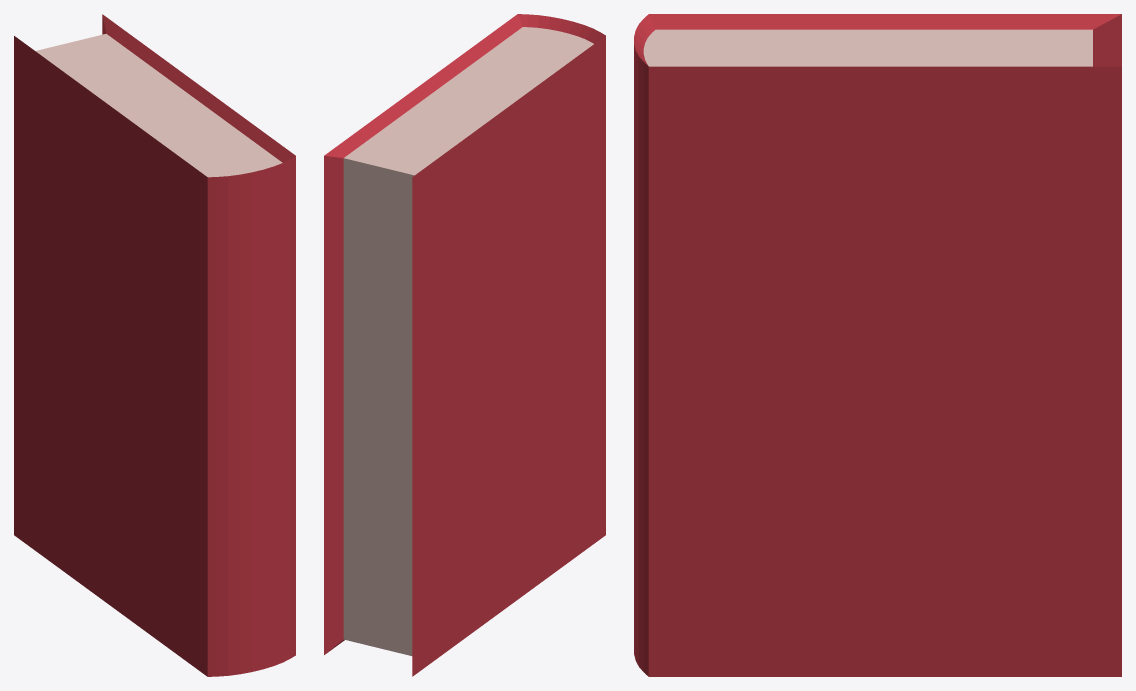
File: book_2.glb
The picture shows the model from 3 angles, left to right: view 1: azimuth 30°, elevation 25°; view 2: azimuth 150°, elevation 25°; view 3: azimuth 270°, elevation 25°; orthographic projection. The views are drawn at different scales.
Parts seen in each view (by area): view 1: book_2.002; view 2: book_2.002; view 3: book_2.002.
Boxes of the visible parts, x1,y1,x2,y2 form: book_2.002: [14, 14, 295, 676]; book_2.002: [324, 14, 605, 676]; book_2.002: [634, 14, 1121, 676].
Bounding box in the file's own units: 0.0663 × 0.3586 × 0.2598.
